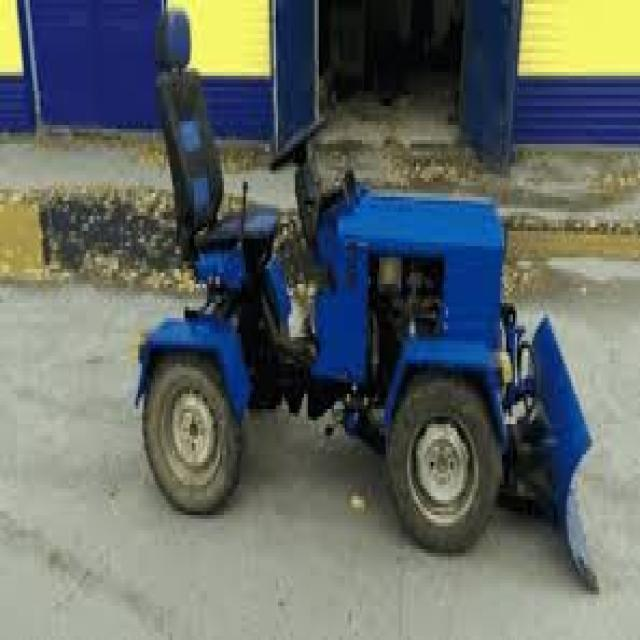Tratores - v5 YOLO V8L 2024-11-13: (140, 61, 531, 583)
